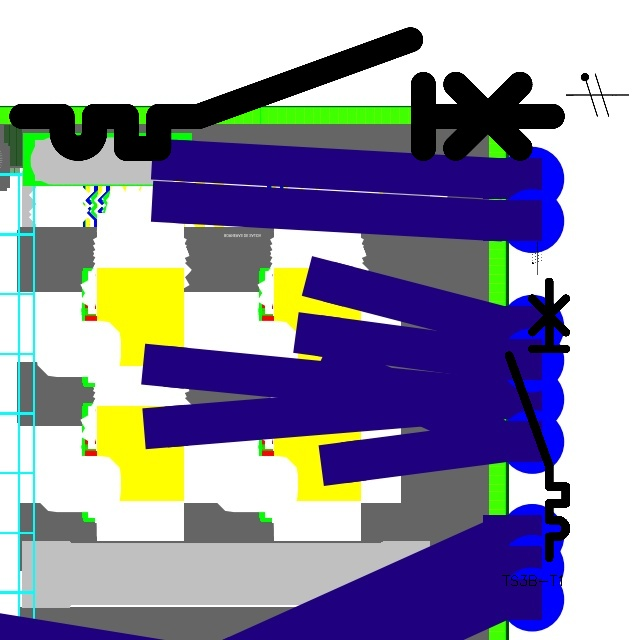interruptor_termomagnetico: (8, 26, 566, 162), (502, 274, 573, 565)
